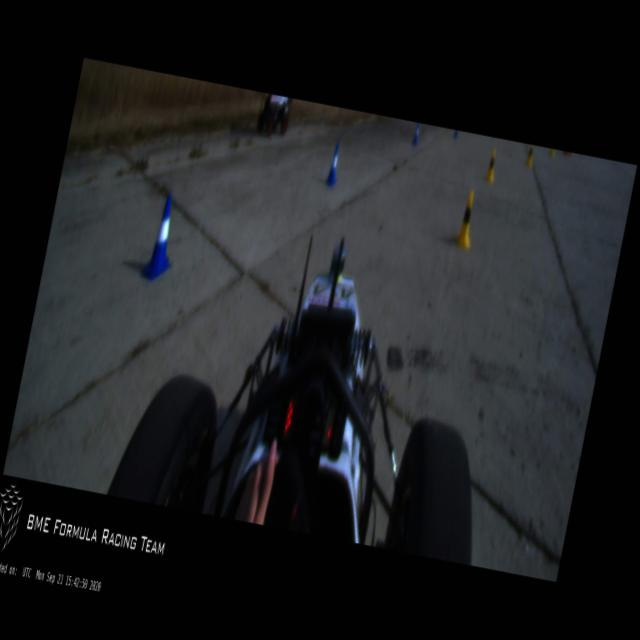blue_cone: (140, 194, 183, 284), (324, 142, 343, 187), (412, 122, 422, 146)
yellow_cone: (453, 190, 480, 250), (484, 149, 498, 183), (525, 144, 536, 168)
